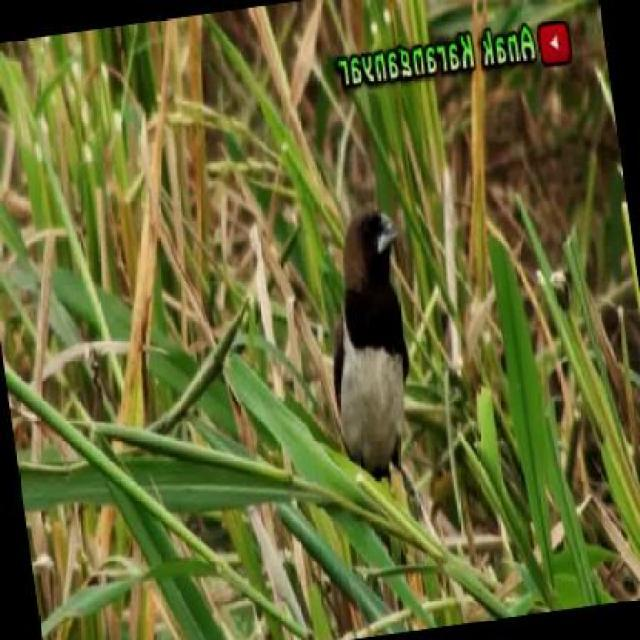Bird: (309, 199, 436, 487)
